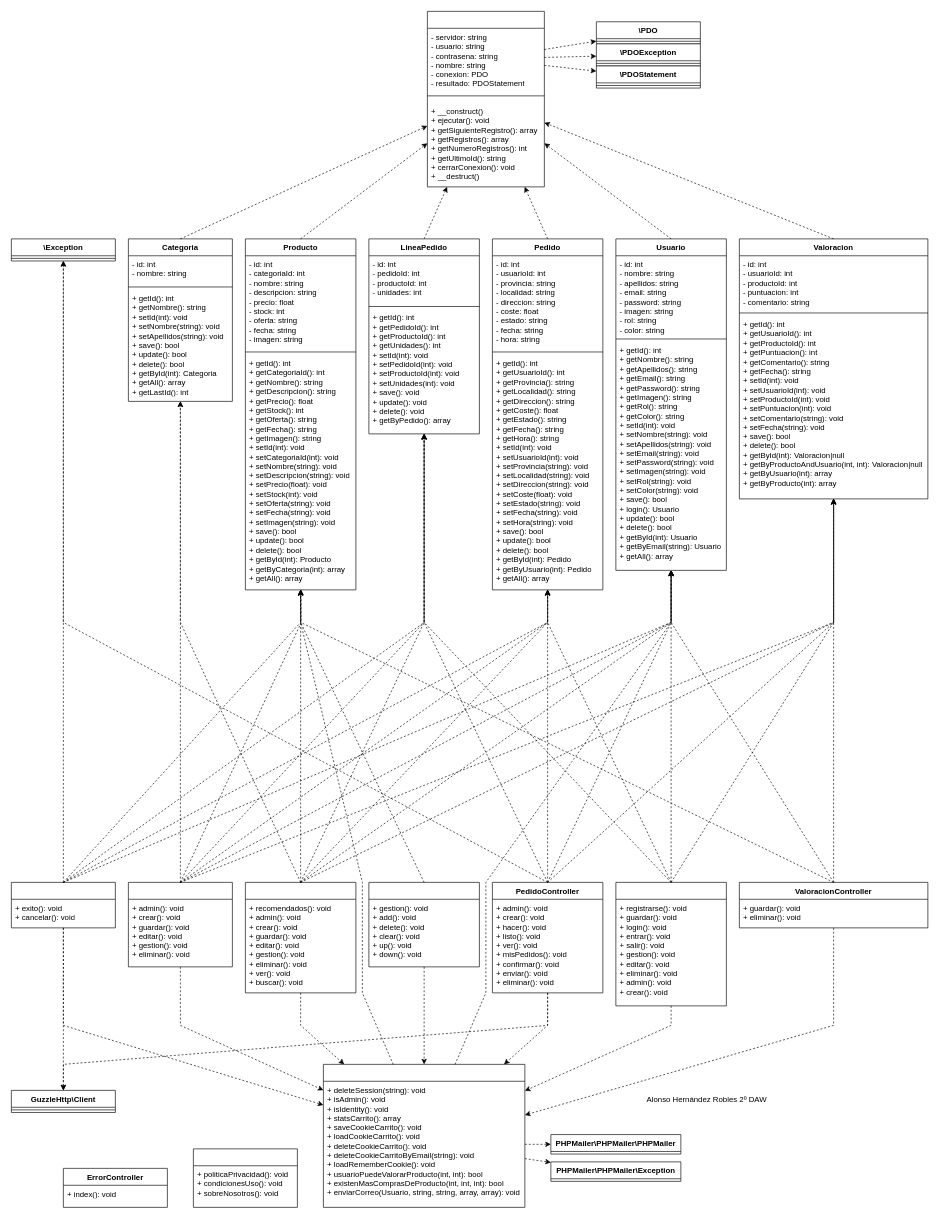
This 939x1221 diagram has some shape labels left out. The shapes that lost their labels are listed below. From the top down, each one's box as (x1, y1, x2, y2) in pixels, then its label:
(427, 11, 544, 187): BaseDatos
(11, 882, 115, 928): PaypalController
(128, 882, 232, 967): CategoriaController
(368, 882, 479, 967): CarritoController
(245, 882, 356, 993): ProductoController
(615, 882, 726, 1006): UsuarioController
(323, 1064, 525, 1207): Utils
(193, 1148, 297, 1207): InfoController
